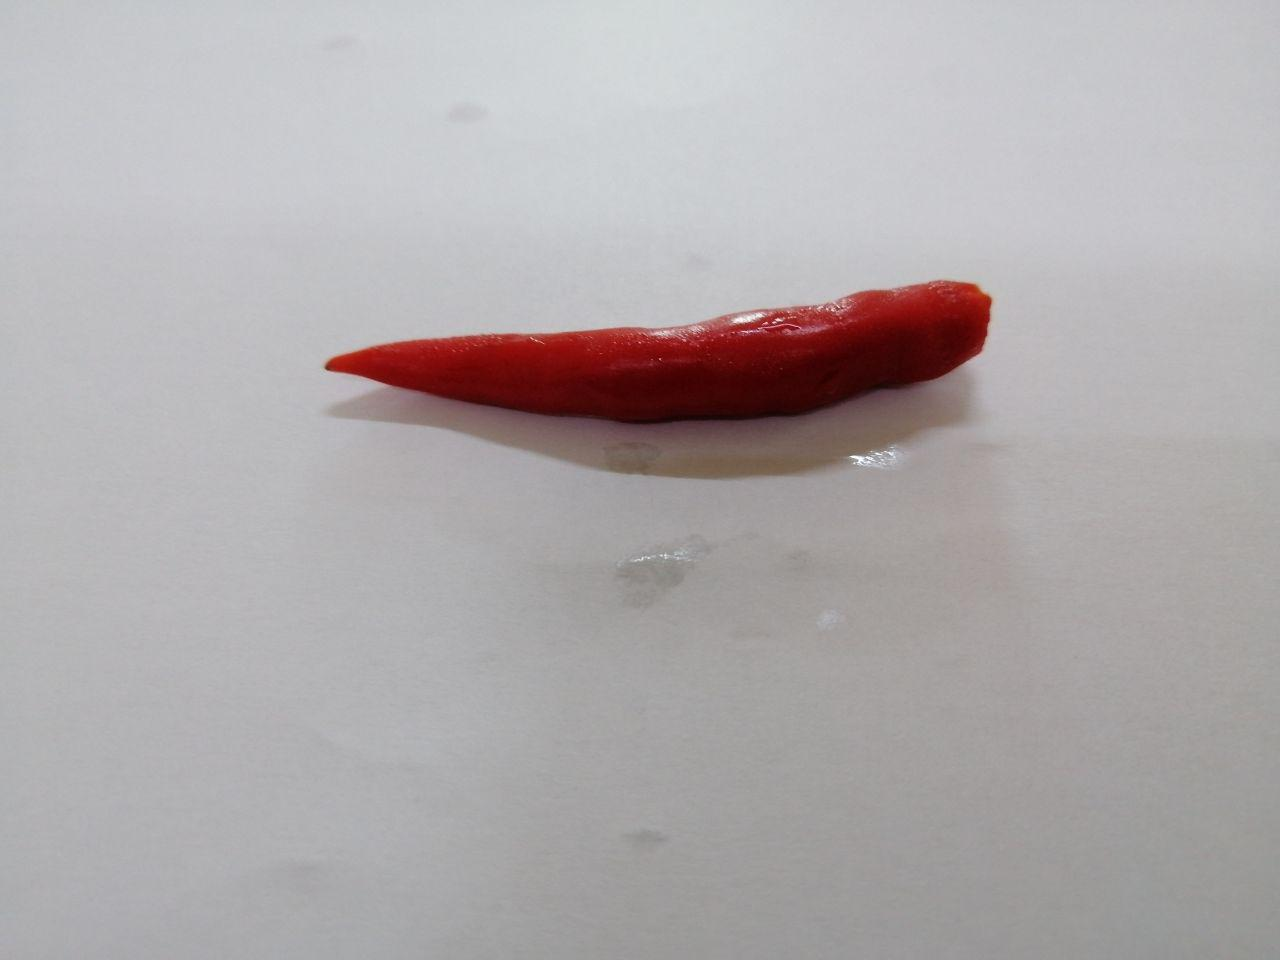lada merah: (296, 239, 1024, 478)
